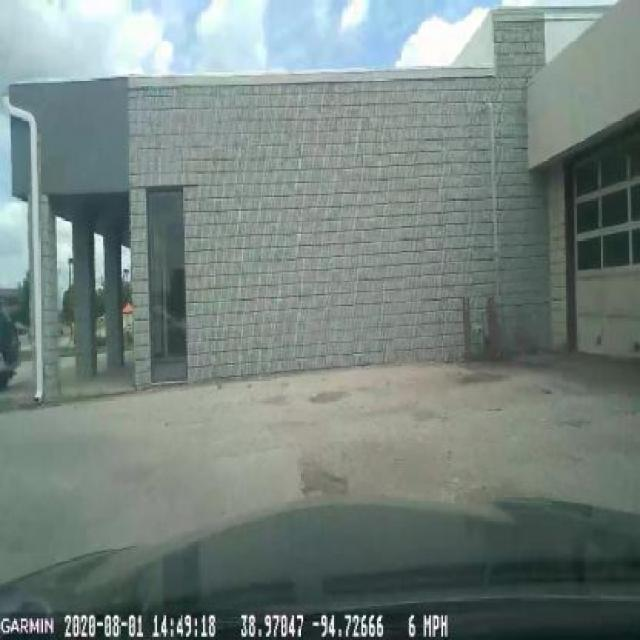Pothole: (290, 448, 359, 507)
